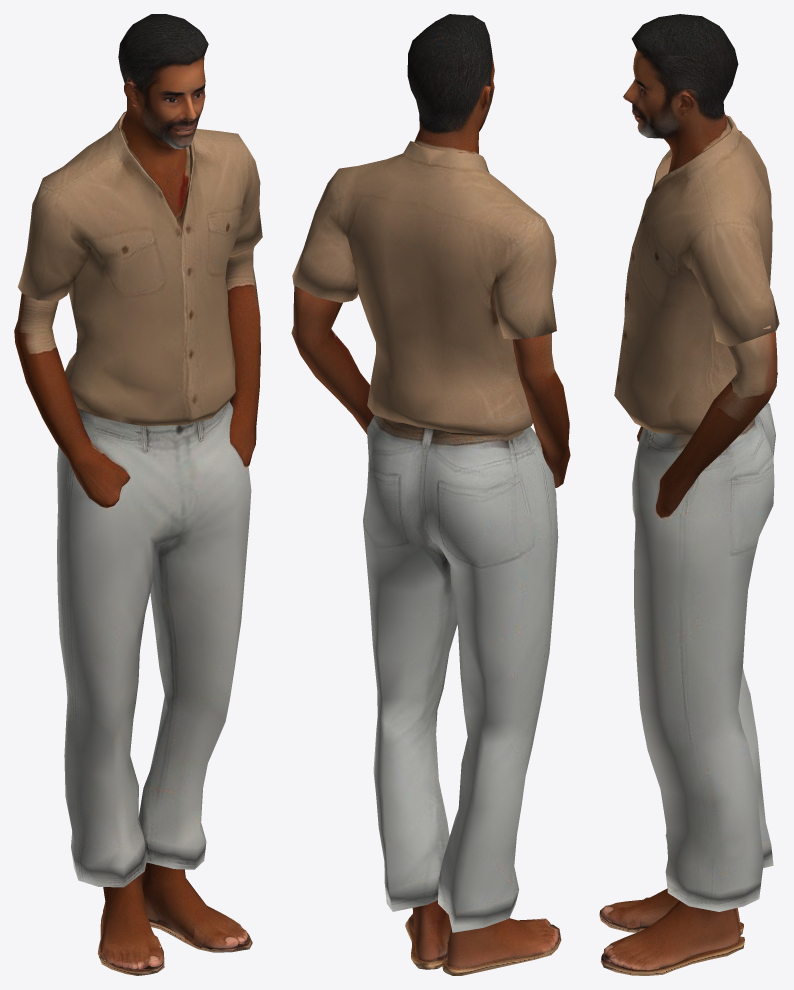
File: man.glb
The picture shows the model from 3 angles, left to right: view 1: azimuth 30°, elevation 25°; view 2: azimuth 150°, elevation 25°; view 3: azimuth 270°, elevation 25°; orthographic projection.
Bounding box in the file's own units: 0.4993 × 1.75 × 0.308.
Materials: 1 (1 with a texture image).
